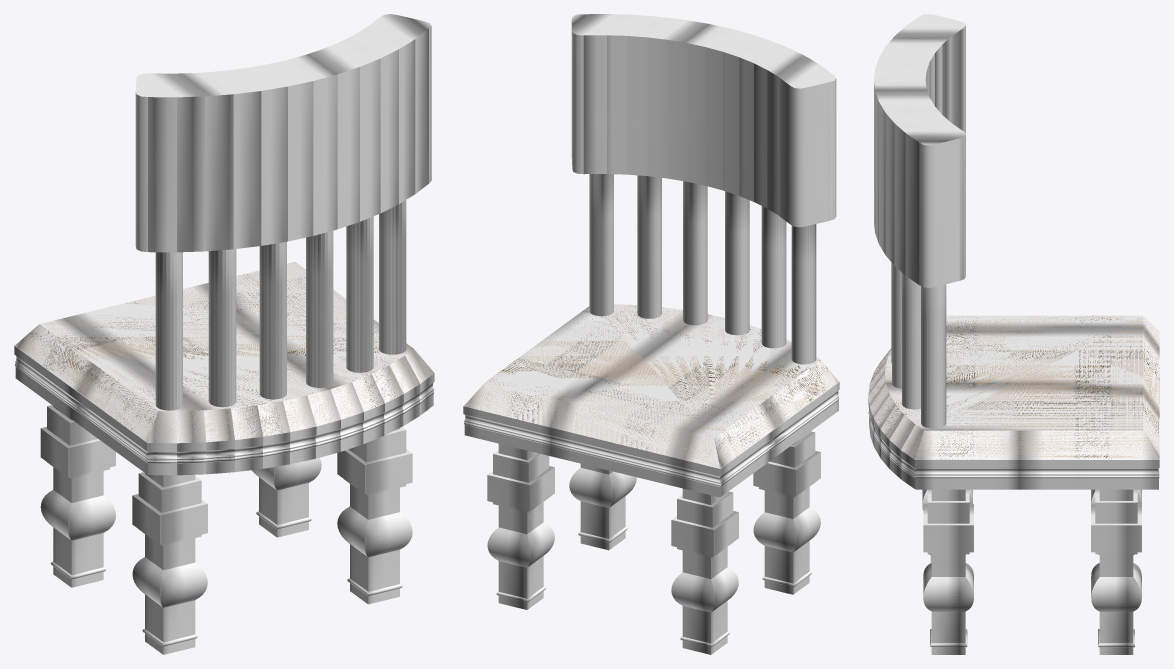
The picture shows the model from 3 angles, left to right: view 1: azimuth 30°, elevation 25°; view 2: azimuth 150°, elevation 25°; view 3: azimuth 270°, elevation 25°; orthographic projection. The views are drawn at different scales.
Visible parts, largest first — view 1: mesh10_mesh10-geometry, mesh11_mesh11-geometry, mesh4_mesh4-geometry, mesh1_mesh1-geometry; view 2: mesh11_mesh11-geometry, mesh10_mesh10-geometry, mesh4_mesh4-geometry, mesh1_mesh1-geometry; view 3: mesh11_mesh11-geometry, mesh10_mesh10-geometry, mesh4_mesh4-geometry, mesh1_mesh1-geometry.
Part boxes in pixels (x1,y1,x2,y2): mesh10_mesh10-geometry: (135, 14, 431, 252); mesh11_mesh11-geometry: (14, 261, 434, 475); mesh4_mesh4-geometry: (40, 405, 412, 654); mesh1_mesh1-geometry: (155, 200, 406, 410); mesh11_mesh11-geometry: (463, 304, 839, 497); mesh10_mesh10-geometry: (571, 14, 836, 227); mesh4_mesh4-geometry: (487, 431, 820, 654); mesh1_mesh1-geometry: (589, 174, 816, 364); mesh11_mesh11-geometry: (868, 315, 1159, 489); mesh10_mesh10-geometry: (874, 14, 965, 287); mesh4_mesh4-geometry: (922, 489, 1141, 654); mesh1_mesh1-geometry: (891, 262, 946, 428).
Bounding box in the file's own units: 0.4341 × 0.8039 × 0.4065.
